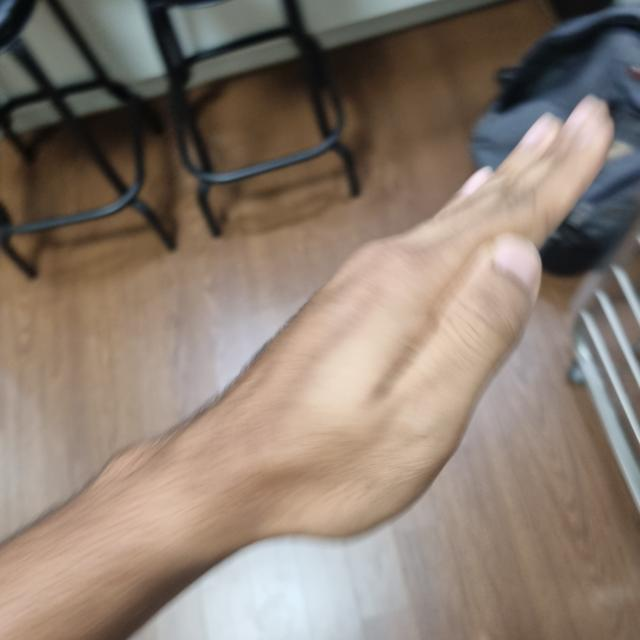Paper: (189, 105, 611, 540)
